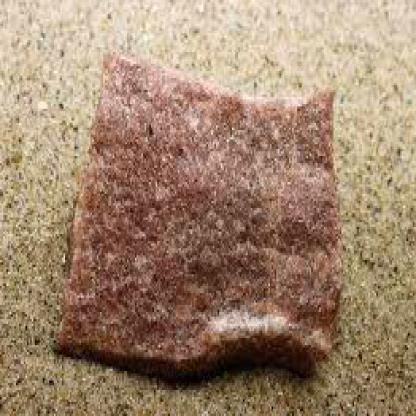Metamorphic_Quartize: (52, 56, 352, 380)
